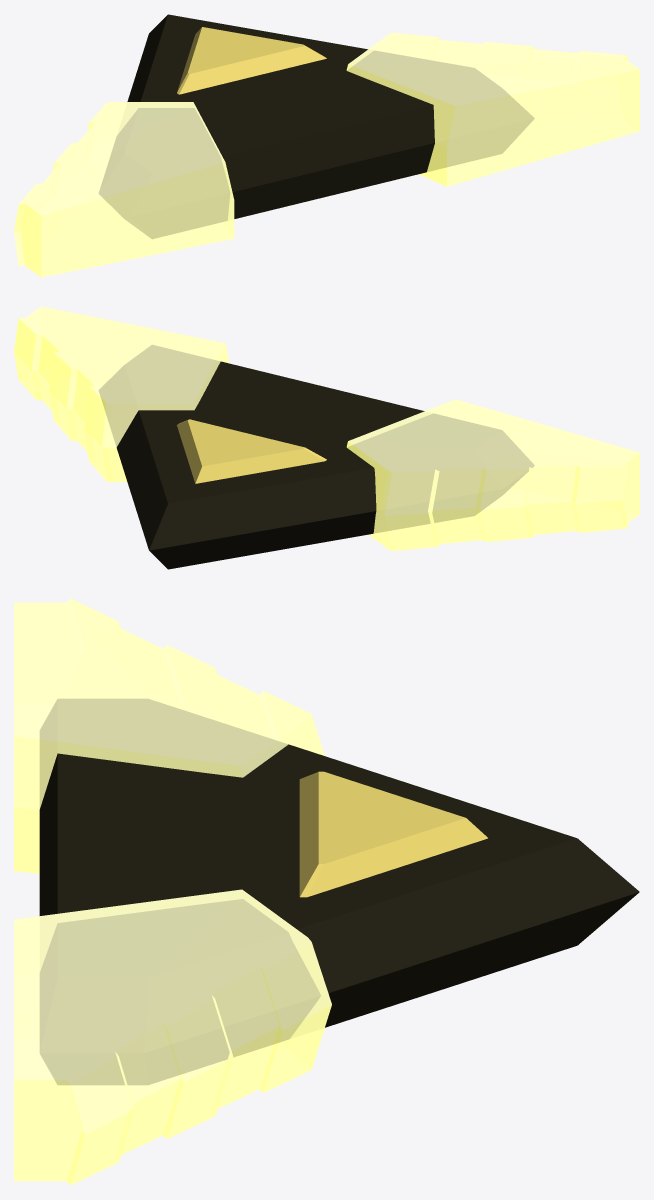
The model's file is yellow.fbx.
3 renders of one model, top to bottom at view 1: azimuth 30°, elevation 25°; view 2: azimuth 150°, elevation 25°; view 3: azimuth 270°, elevation 25°, orthographic. The views are drawn at different scales.
Visible parts, largest first — view 1: Cube, Cube.001; view 2: Cube, Cube.001; view 3: Cube, Cube.001.
Boxes of the visible parts, x1,y1,x2,y2 form: Cube: (99, 14, 534, 238); Cube.001: (14, 32, 639, 277); Cube: (99, 345, 534, 569); Cube.001: (14, 306, 639, 551); Cube: (39, 699, 639, 1084); Cube.001: (14, 598, 331, 1185).
Size of the model in its own units: 348 by 46.15 by 189.
